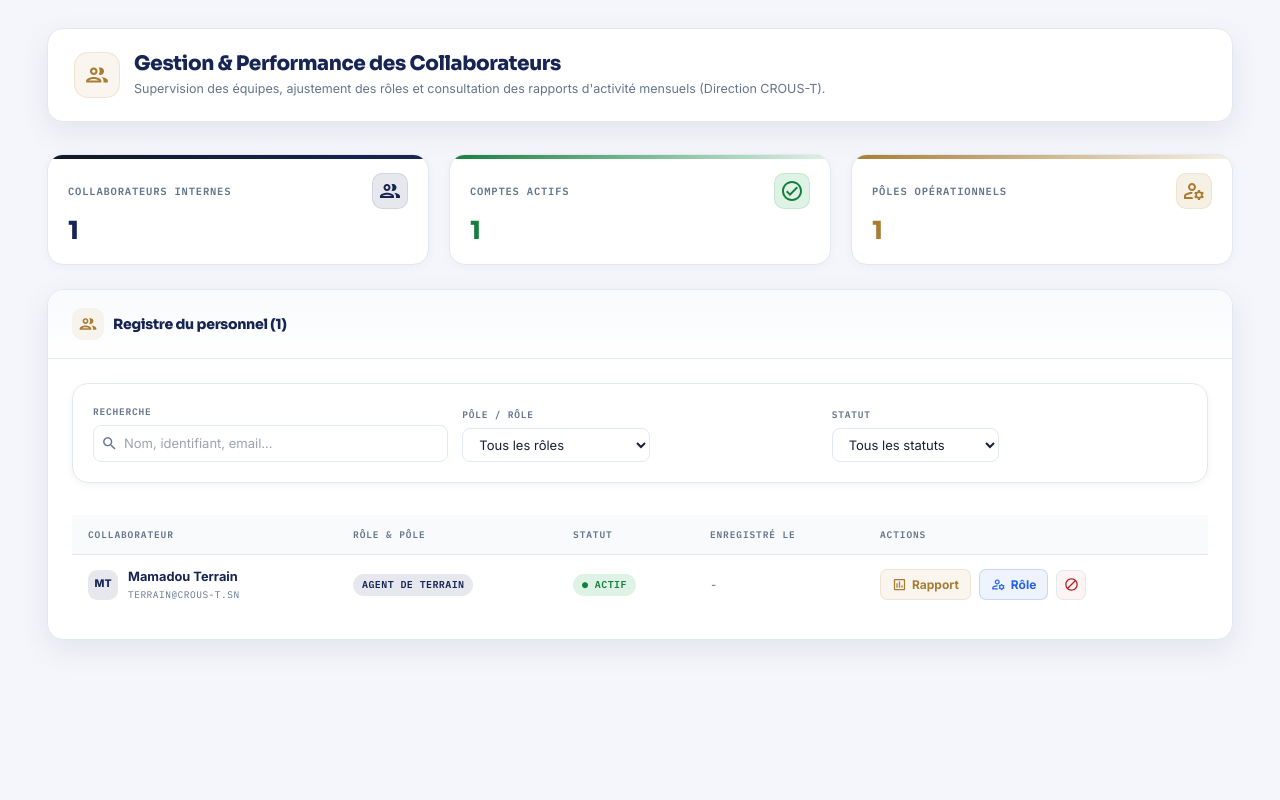
GestionCollaborateurs › ouvre la modale de rapport mensuel et affiche les indicateurs d activité
This screenshot has width=1280, height=800.
Click the button "Rapport" at (925, 585), box [880,569,971,600]
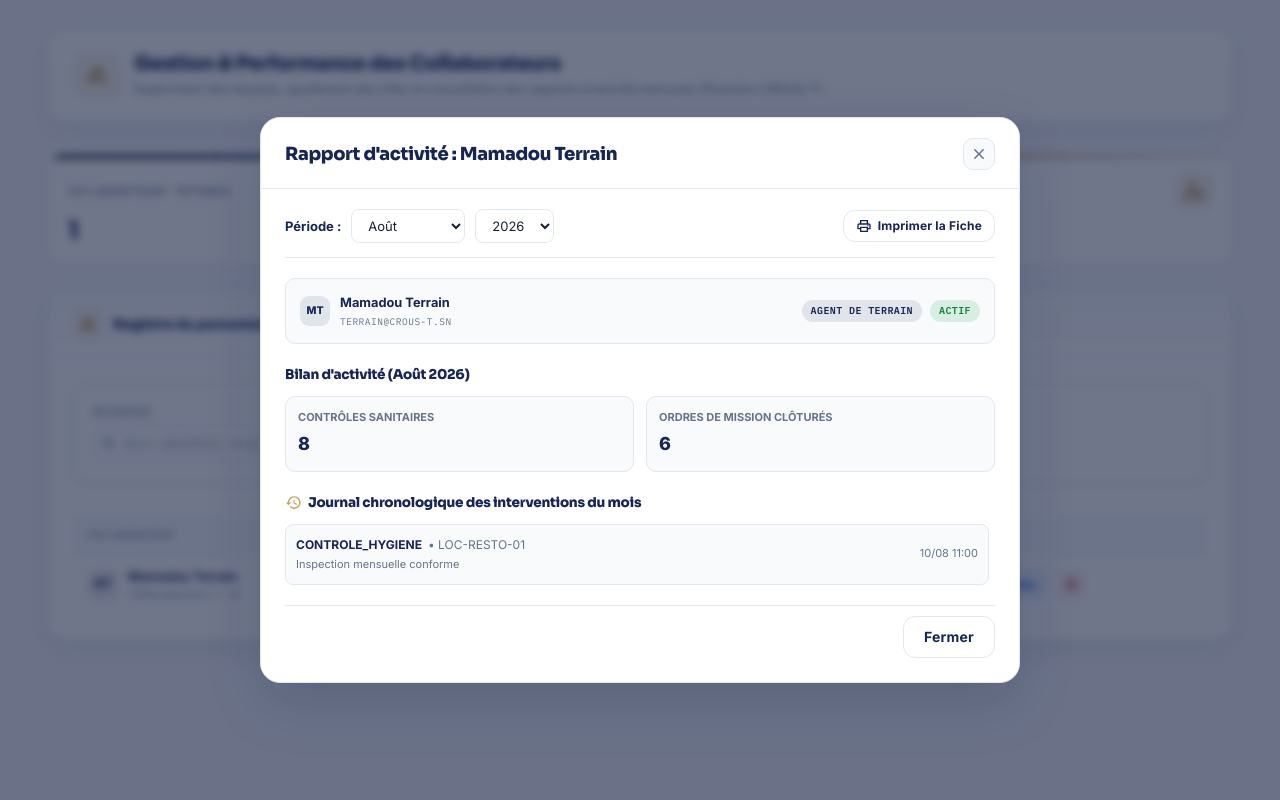
Check: the text "Contrôles sanitaires" is shown, box [298,410,434,424]
Check: the text "Ordres de mission clôturés" is shown, box [659,410,833,424]
Check: the text "Inspection mensuelle conforme" is shown, box [296,557,459,571]
